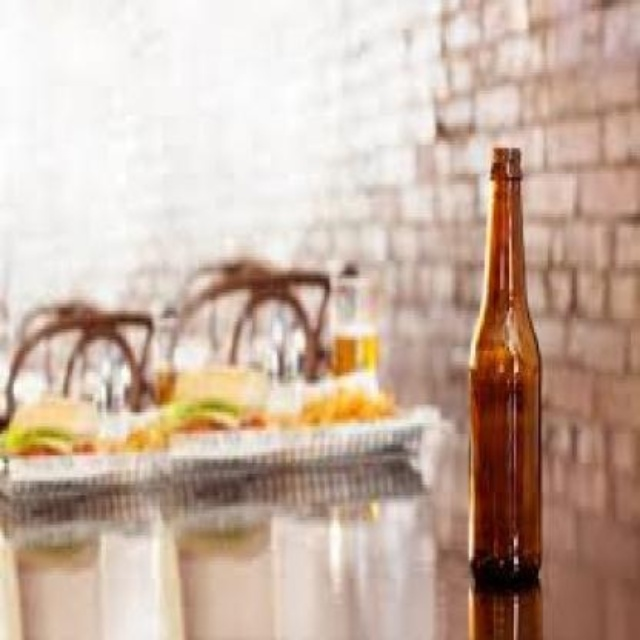trash: (469, 148, 540, 588)
